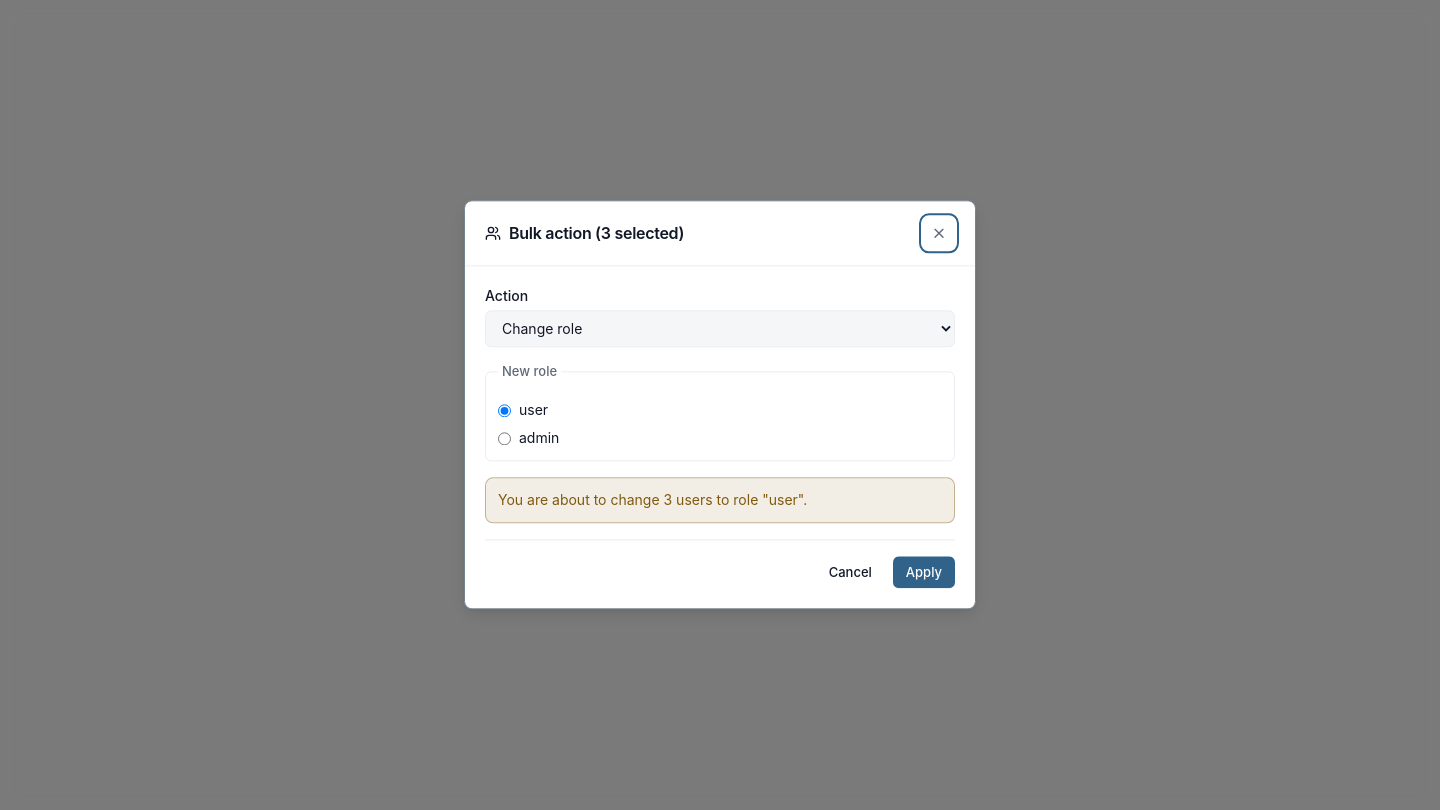
Test: UserBulkActionDialog › shows "requires Enterprise" branch on 404 (overlay not deployed)
This screenshot has width=1440, height=810.
What coordinates should you click on to do the following:
click the button with test id "bulk-action-submit"
I would click on:
 (924, 573)
Its box is x1=893 y1=557 x2=955 y2=589.
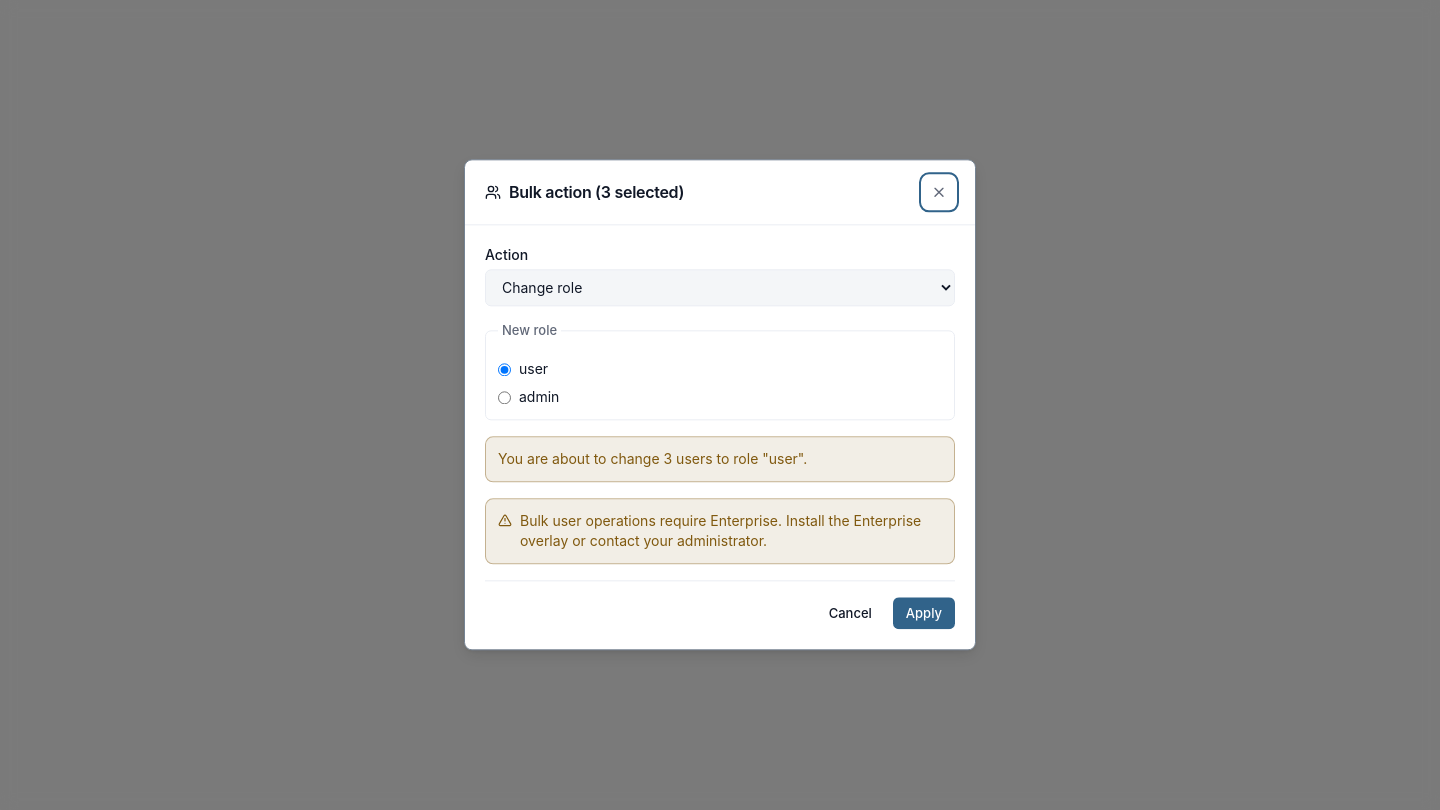
Expected: the message with test id "bulk-action-requires-enterprise" is shown, x1=485 y1=499 x2=955 y2=565
Expected: the message with test id "bulk-action-requires-enterprise" shows "require Enterprise", x1=520 y1=513 x2=921 y2=550
